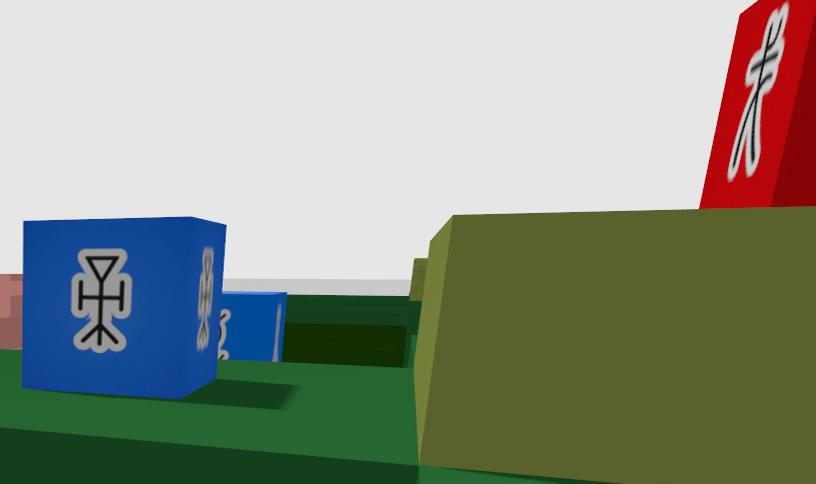KFS_FAKE: (699, 0, 815, 207), (728, 4, 789, 181)
KFS_REAL: (22, 217, 223, 397), (71, 249, 131, 352), (218, 291, 287, 360), (196, 247, 214, 351)
